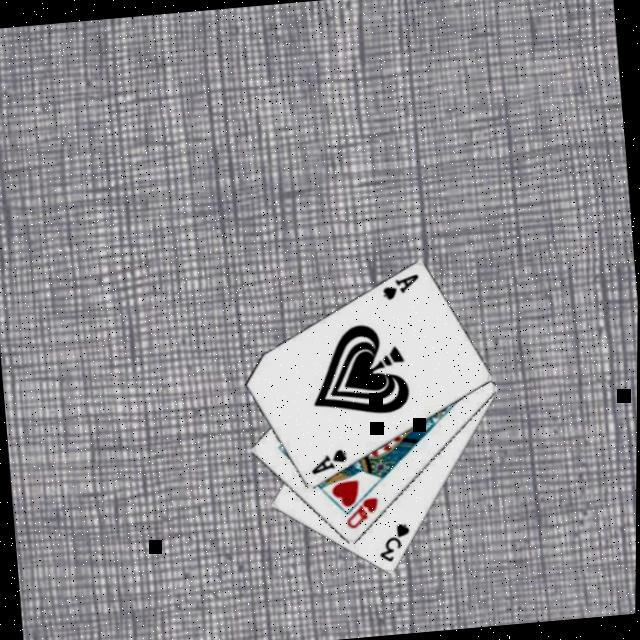3S: (372, 516, 413, 564)
AS: (376, 268, 421, 302), (304, 443, 348, 475)
QH: (340, 492, 381, 530)
